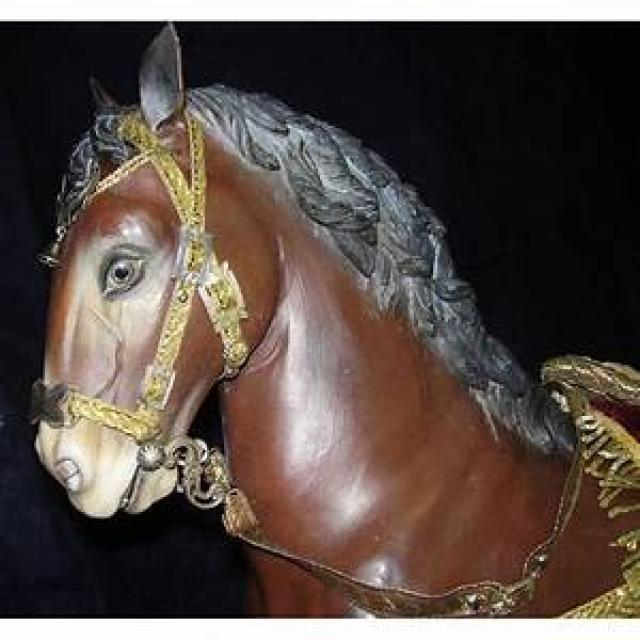animal: (41, 81, 640, 616)
